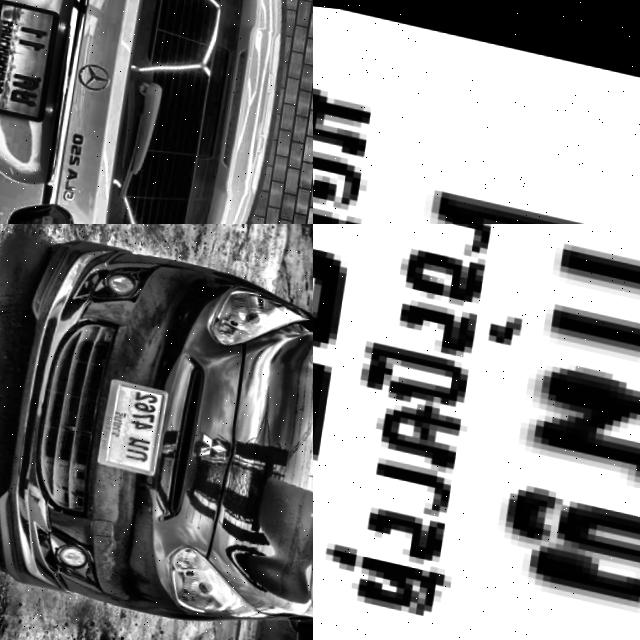license-plate: (313, 224, 640, 640), (313, 0, 640, 224), (95, 369, 172, 473), (0, 0, 62, 116)
